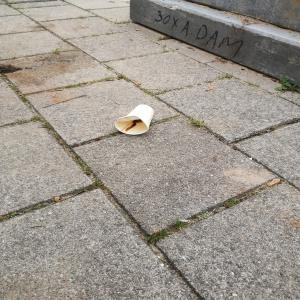Cup: (110, 102, 163, 140)
